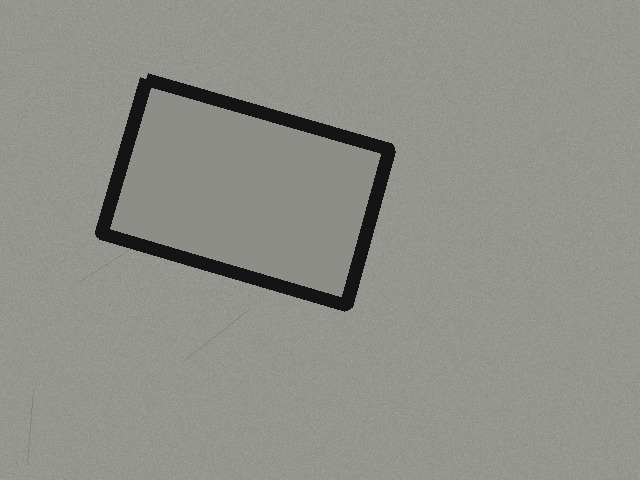parking_area: (101, 79, 389, 305)
